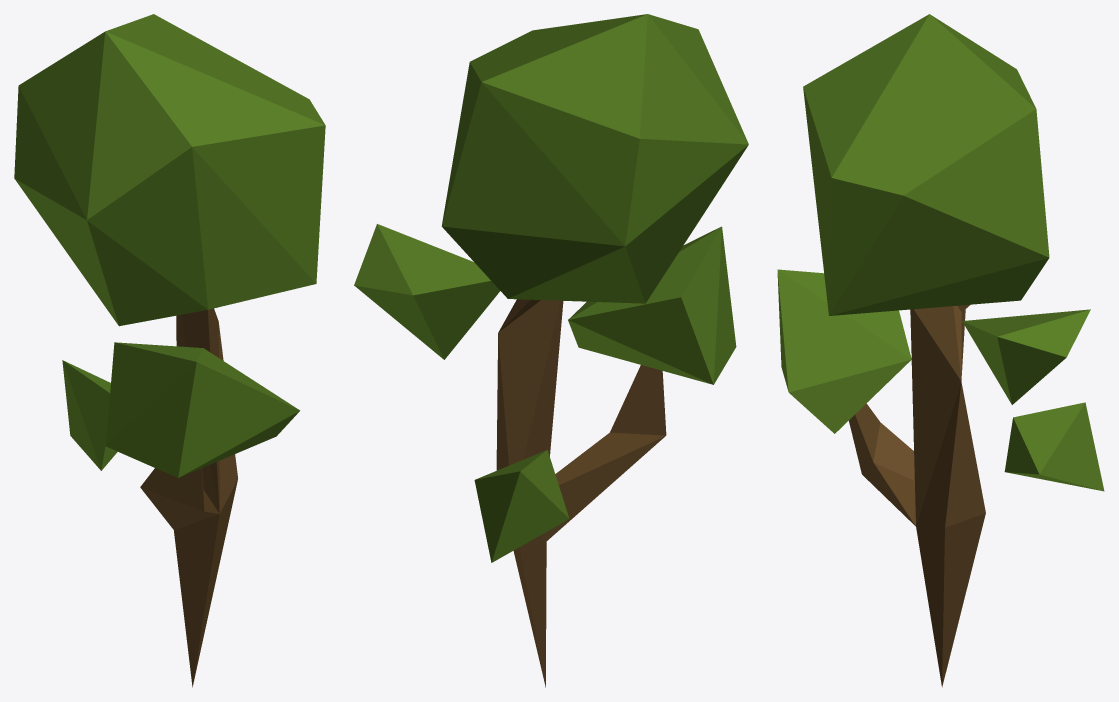
File: temp-decid.moderate-op0.175.gltf
3 renders of one model, left to right at view 1: azimuth 30°, elevation 25°; view 2: azimuth 150°, elevation 25°; view 3: azimuth 270°, elevation 25°, orthographic. The views are drawn at different scales.
Parts seen in each view (by area): view 1: Tree1_2; view 2: Tree1_2; view 3: Tree1_2.
Boxes of the visible parts, x1,y1,x2,y2 form: Tree1_2: [14, 14, 325, 687]; Tree1_2: [354, 14, 748, 687]; Tree1_2: [777, 14, 1104, 687].
Bounding box in the file's own units: 2.65 × 5.98 × 2.81.
1 material, 1 textured.
